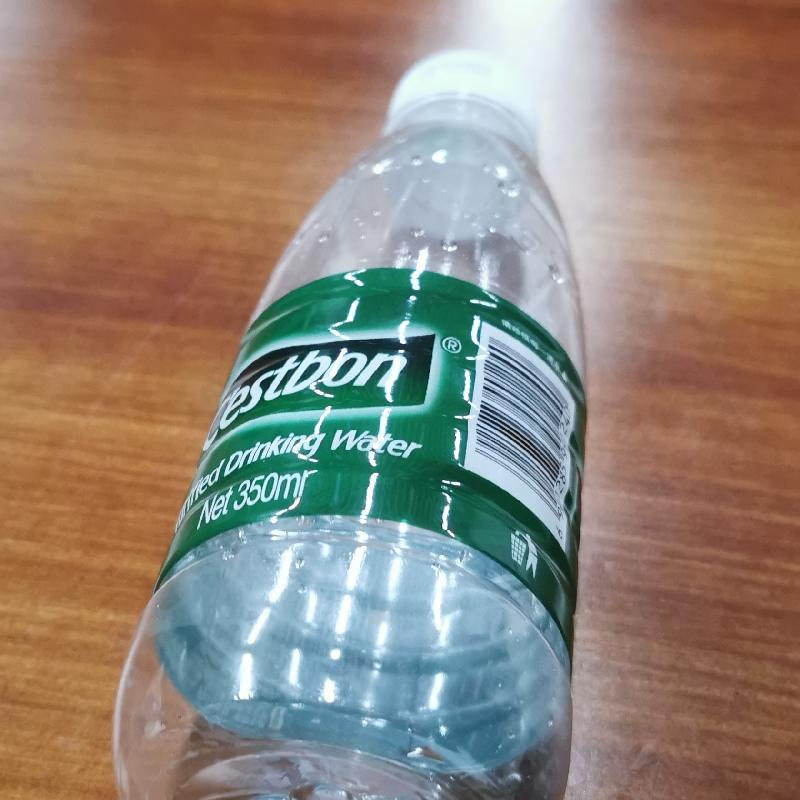bottles: (109, 60, 586, 799)
